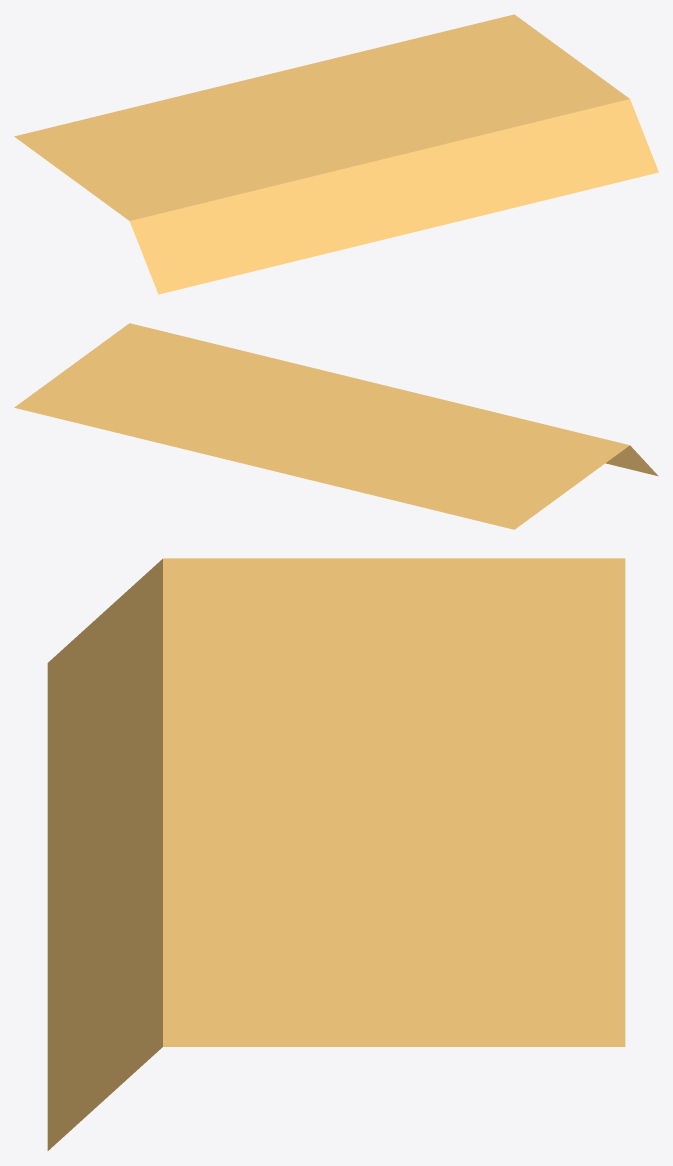
3 renders of one model, top to bottom at view 1: azimuth 30°, elevation 25°; view 2: azimuth 150°, elevation 25°; view 3: azimuth 270°, elevation 25°, orthographic. The views are drawn at different scales.
Bounding box in the file's own units: 1 × 0.1 × 0.5.
